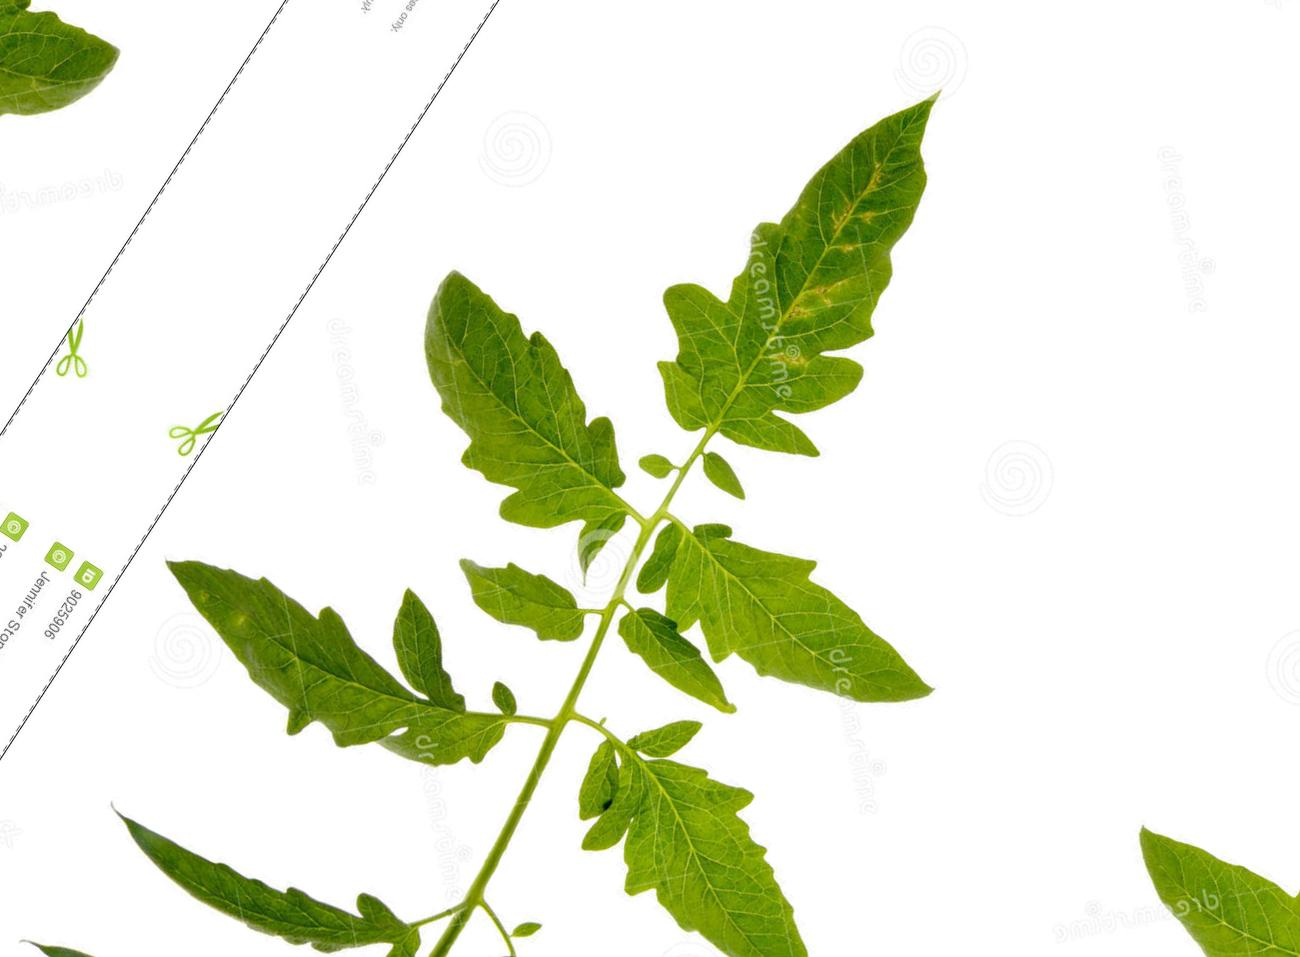Tomato leaf: (570, 9, 1037, 516), (100, 449, 570, 857), (287, 199, 736, 616), (592, 472, 994, 808), (506, 653, 942, 957)
